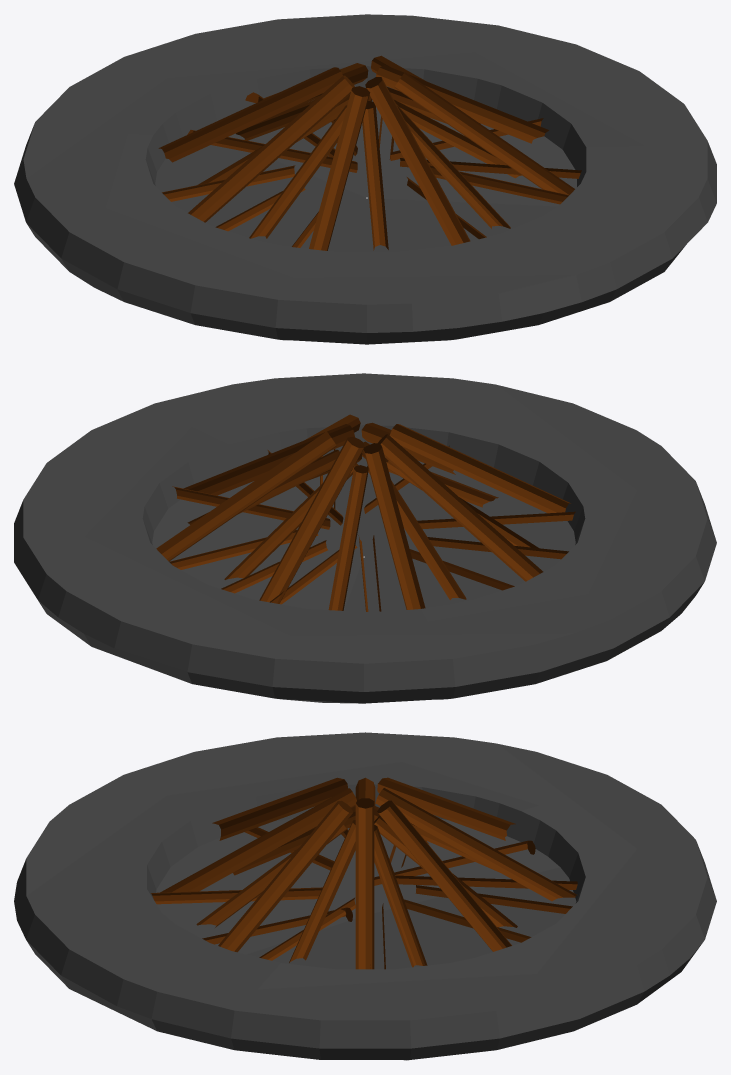
Rendered from fogueira.fbx.
3 views of the same model, one above another, from view 1: azimuth 30°, elevation 25°; view 2: azimuth 150°, elevation 25°; view 3: azimuth 270°, elevation 25° (orthographic).
Visible parts, largest first — view 1: fogueira; view 2: fogueira; view 3: fogueira.
Boxes of the visible parts, bbox=[...] form: fogueira: bbox=[14, 14, 716, 344]; fogueira: bbox=[14, 373, 716, 703]; fogueira: bbox=[14, 732, 716, 1060].
Bounding box in the file's own units: 182 × 41.28 × 183.
